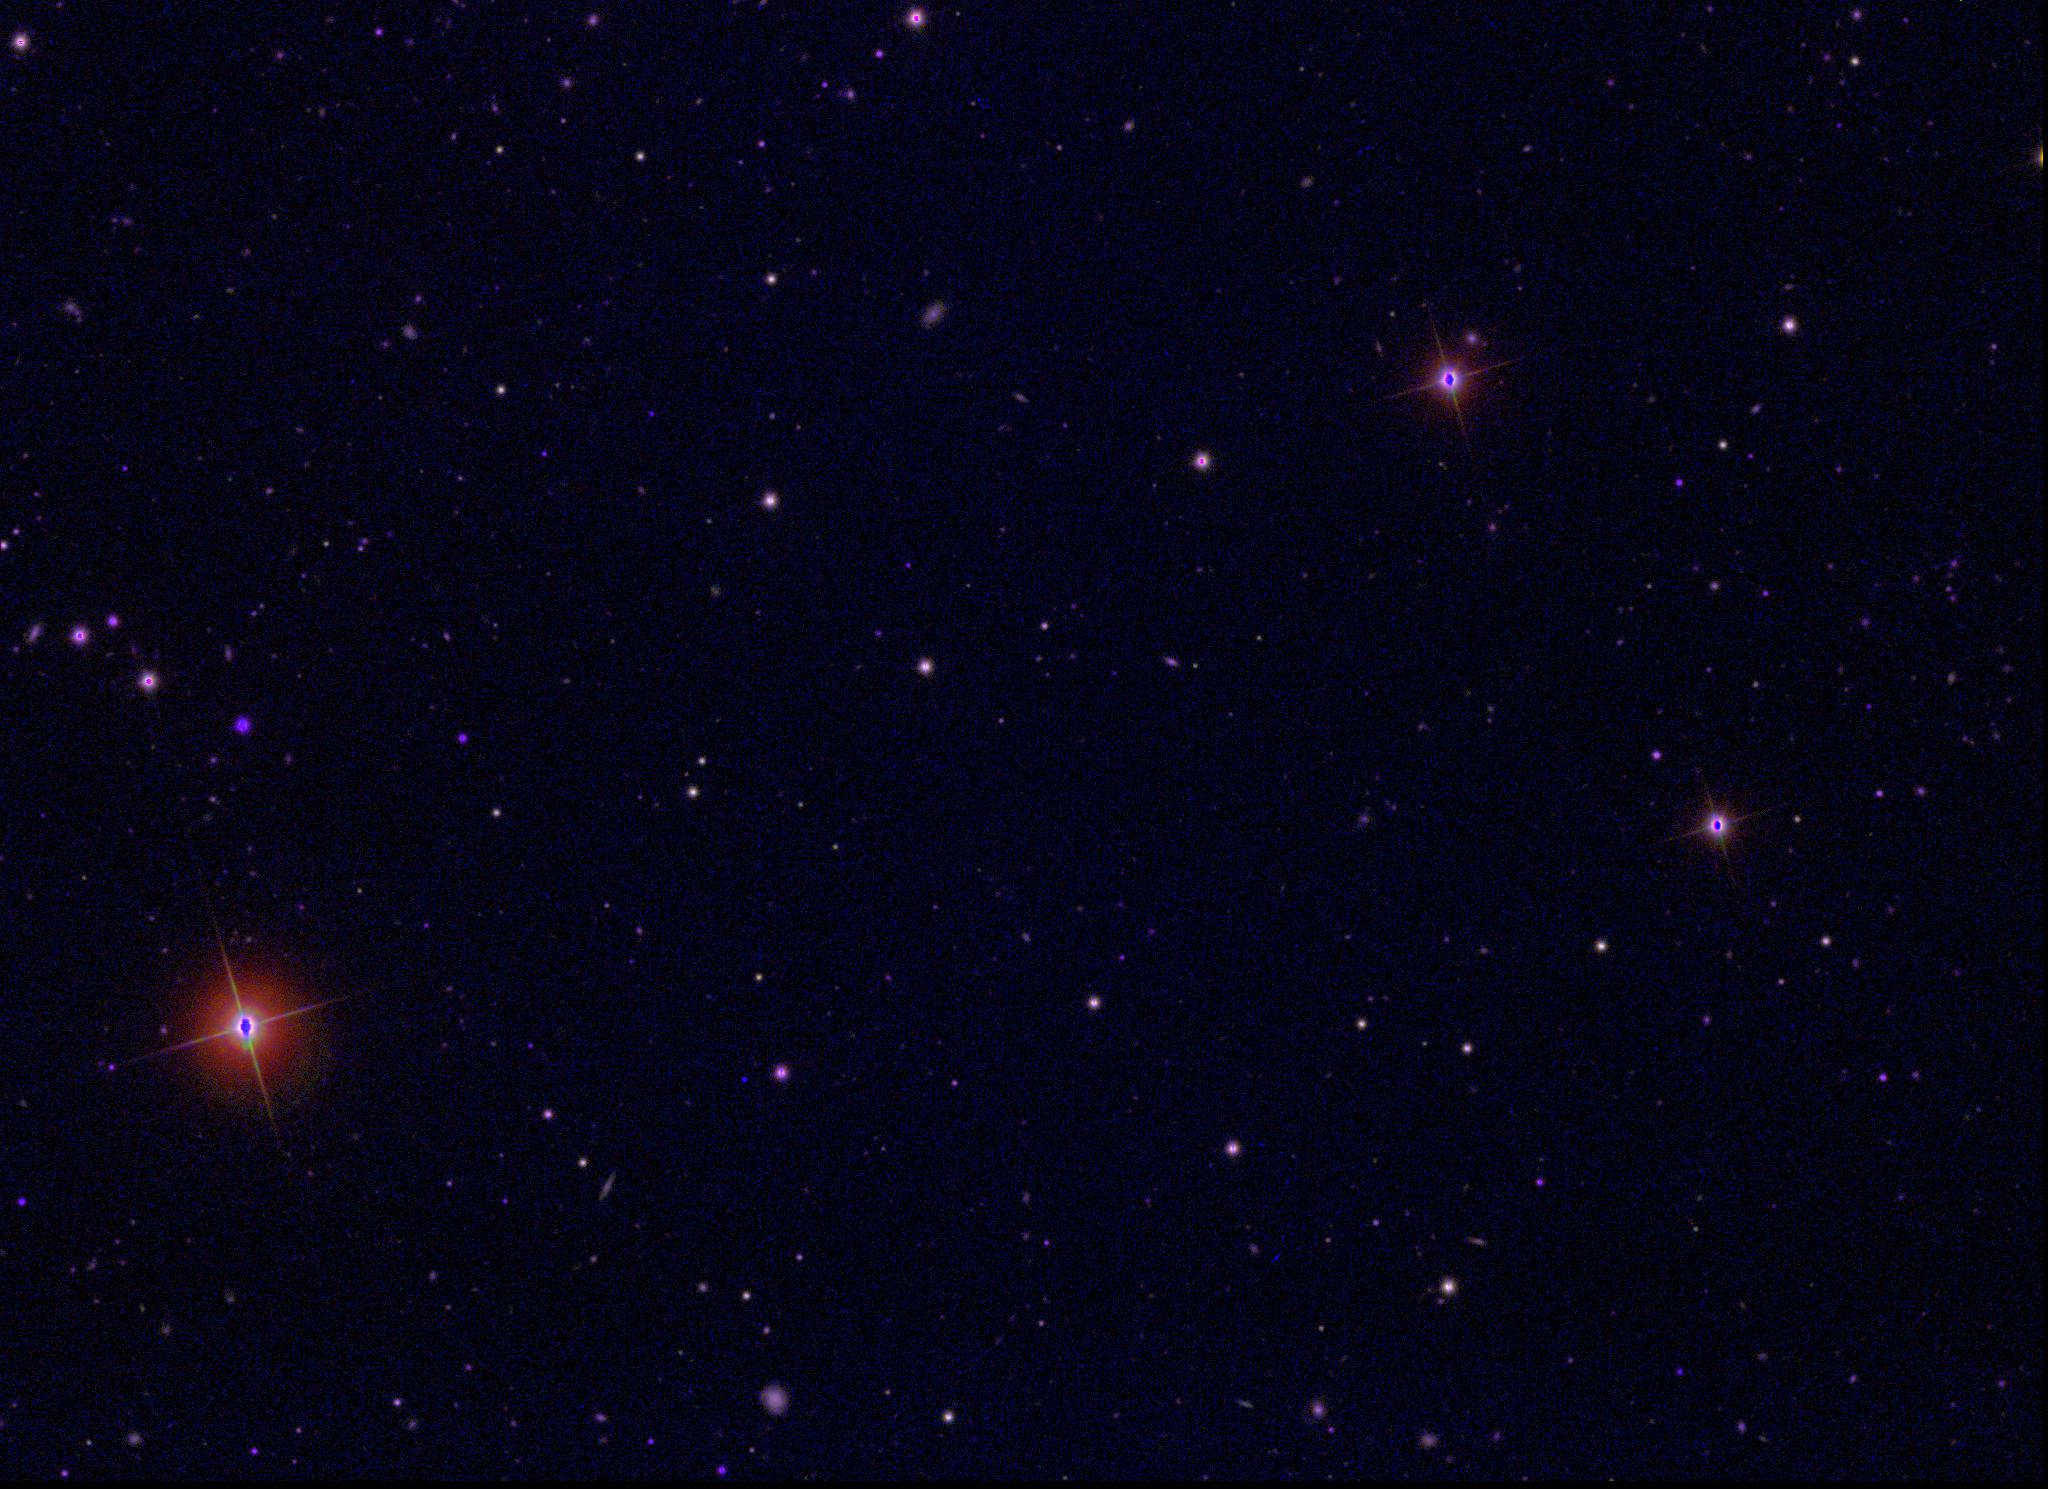L: (736, 1072, 751, 1087)
